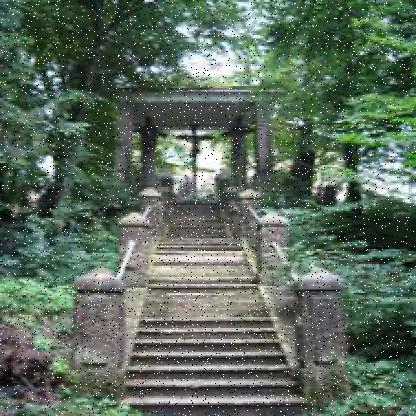stair_up: (136, 252, 290, 402)
